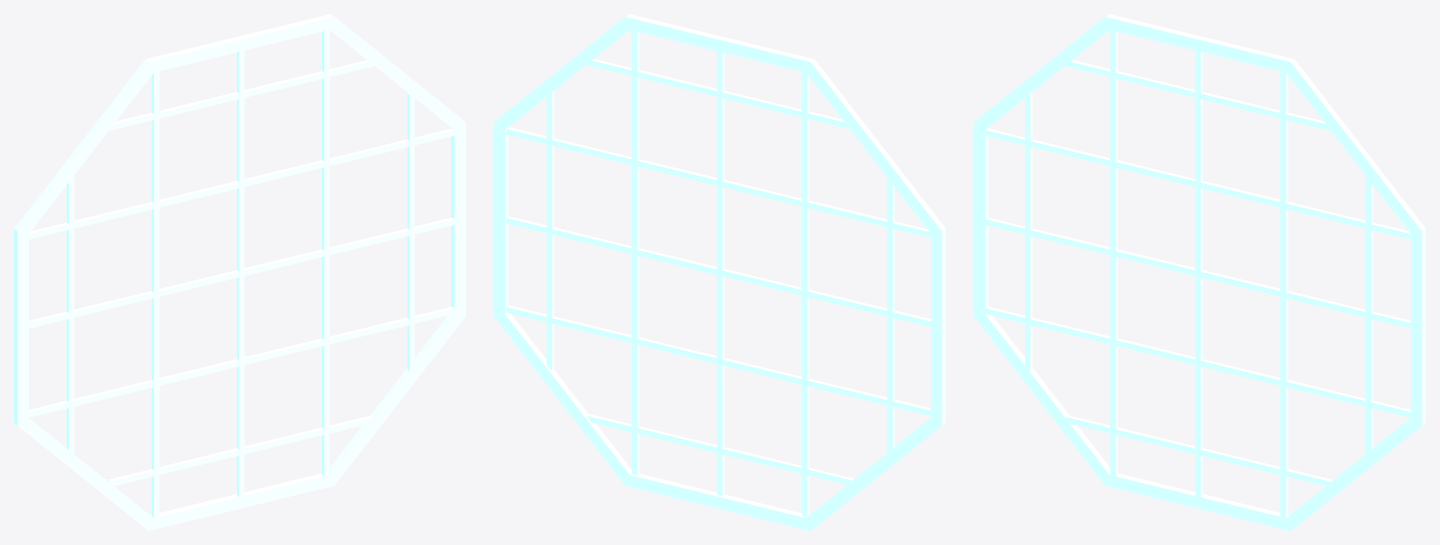
The model's file is boss_shield.glb.
The picture shows the model from 3 angles, left to right: view 1: azimuth 30°, elevation 25°; view 2: azimuth 150°, elevation 25°; view 3: azimuth 330°, elevation 25°; orthographic projection.
Parts seen in each view (by area): view 1: boss_shield; view 2: boss_shield; view 3: boss_shield.
Part boxes in pixels (box(x1,y1,x2,y2)): boss_shield: box(14, 14, 465, 530); boss_shield: box(494, 14, 945, 530); boss_shield: box(974, 14, 1425, 530).
Size of the model in its own units: 2 by 2 by 0.03.
